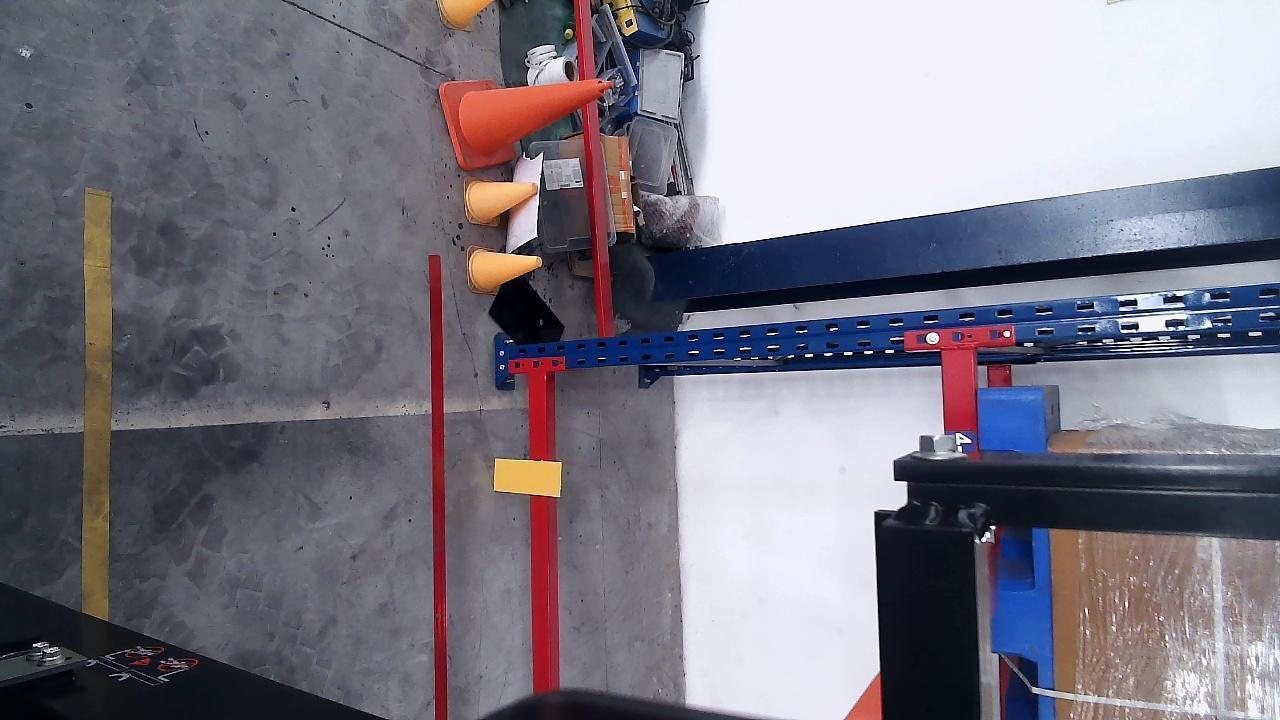red_line: (426, 253, 448, 720)
yellow_line: (84, 189, 115, 623)
